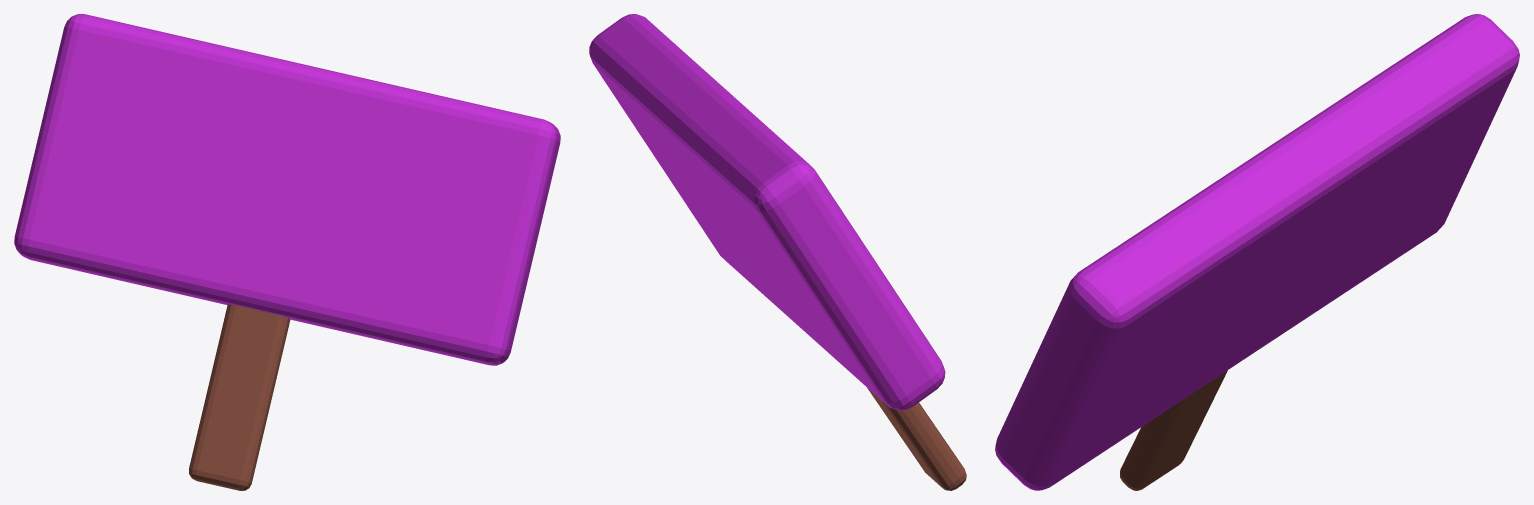
File: P_sign.glb
3 views of the same model, side by side, from view 1: azimuth 30°, elevation 25°; view 2: azimuth 150°, elevation 25°; view 3: azimuth 270°, elevation 25° (orthographic). The views are drawn at different scales.
Parts seen in each view (by area): view 1: Sign.005, Sign stick.005; view 2: Sign.005, Sign stick.005; view 3: Sign.005, Sign stick.005.
Boxes of the visible parts, box(x1,y1,x2,y2) form: Sign.005: box(14, 14, 560, 365); Sign stick.005: box(189, 304, 290, 490); Sign.005: box(589, 14, 945, 410); Sign stick.005: box(867, 388, 966, 490); Sign.005: box(995, 14, 1519, 490); Sign stick.005: box(1120, 370, 1227, 490).
Bounding box in the file's own units: 1.78 × 1.52 × 1.57.
